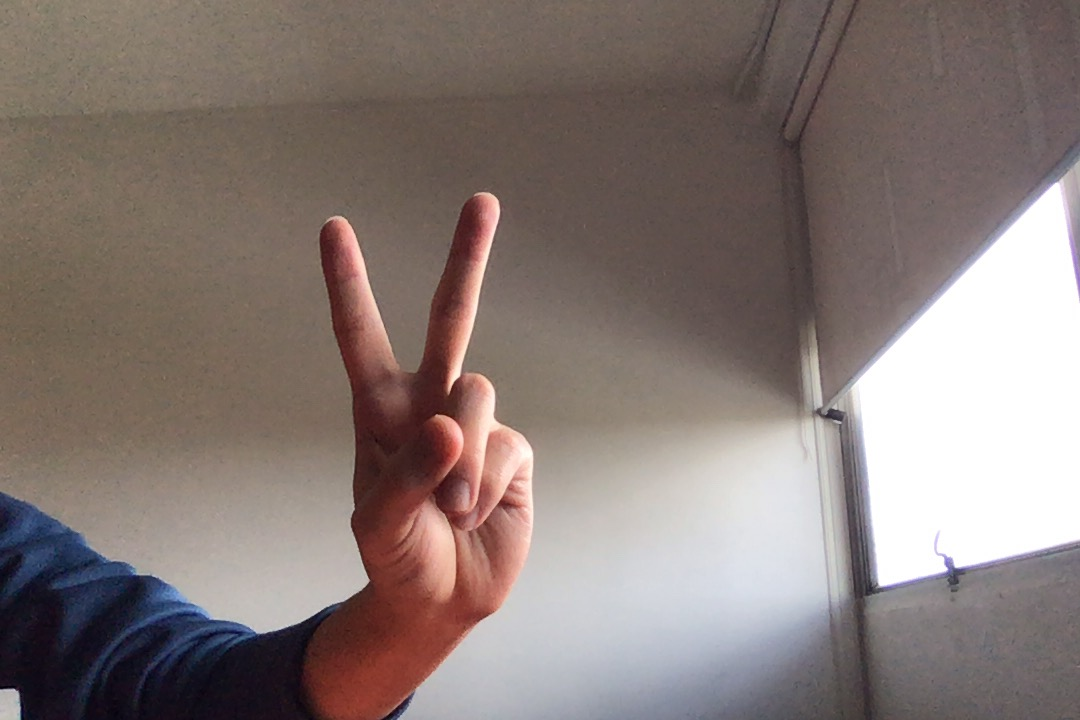peacesign: (307, 187, 548, 639)
